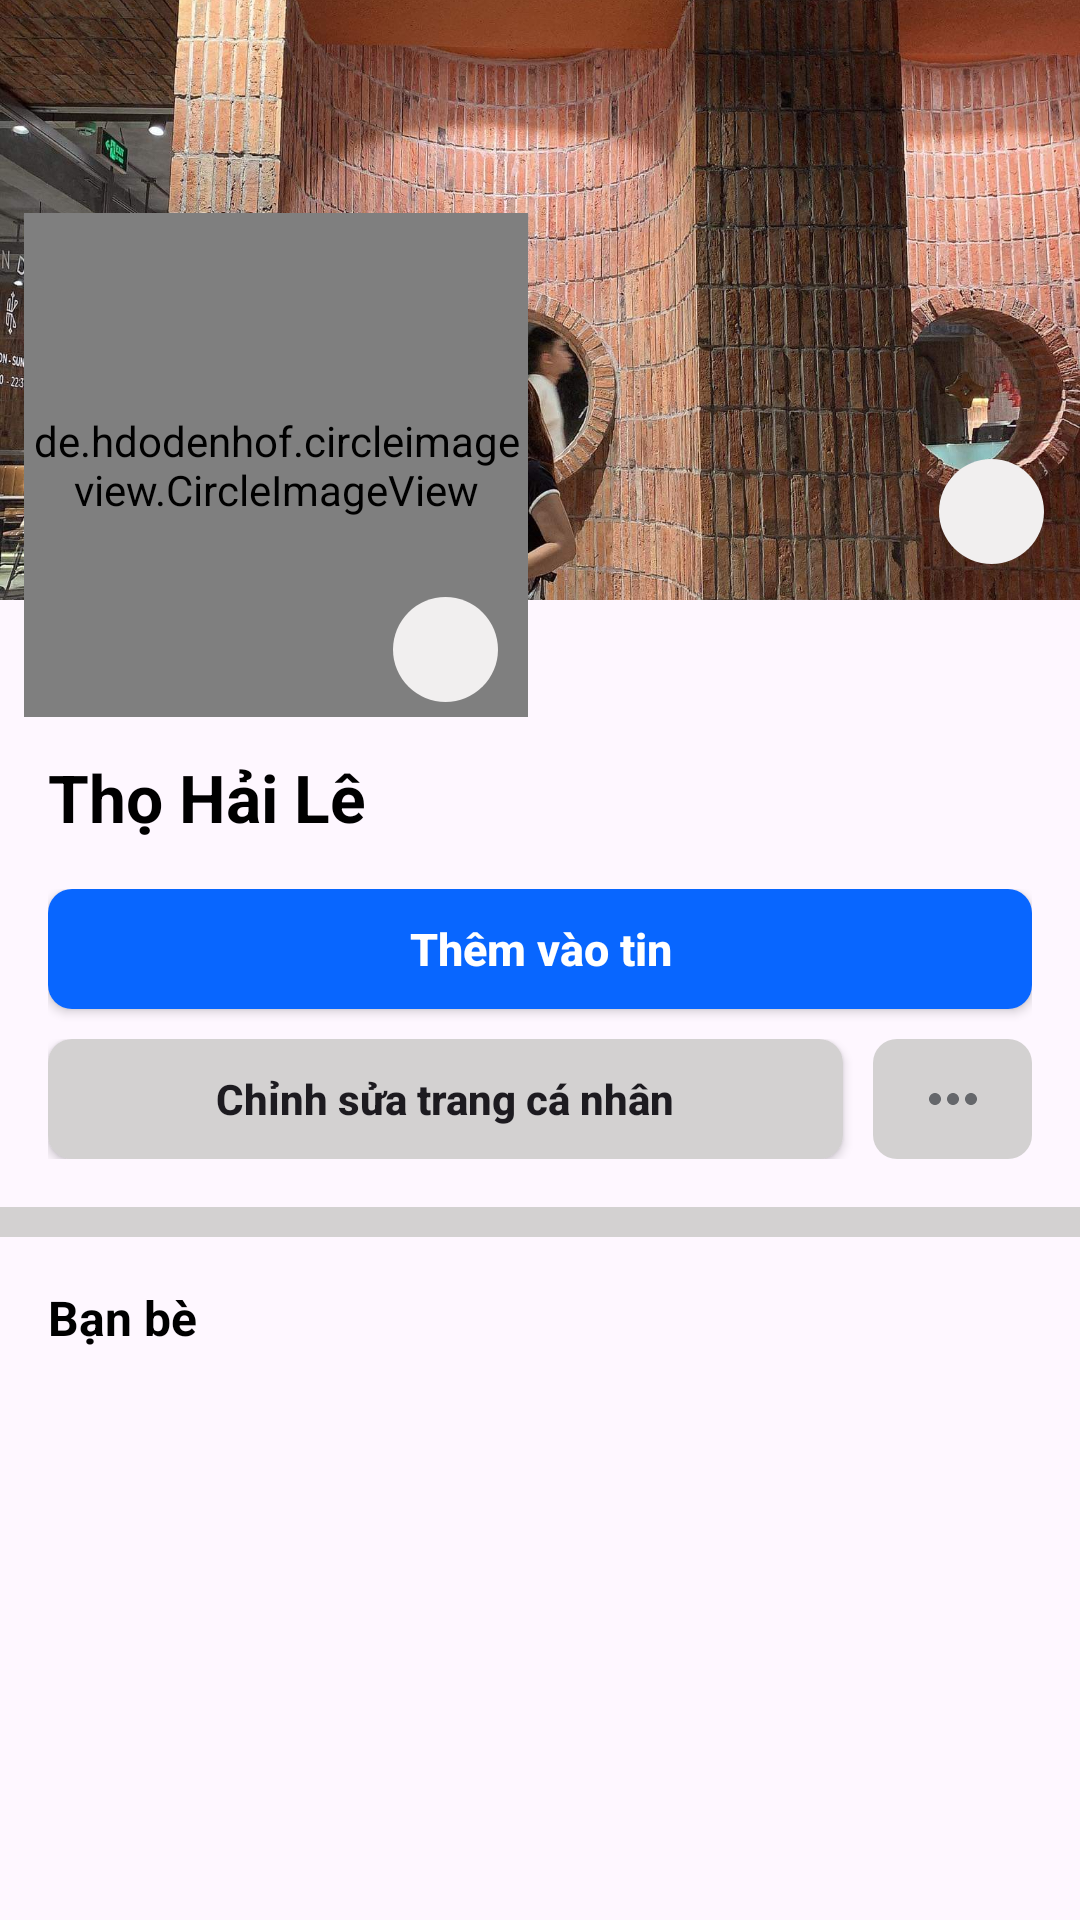

Point at icon controls on the screen. Image size 1080*1920, points as (x,y).
more dashboard: (952,1099)
